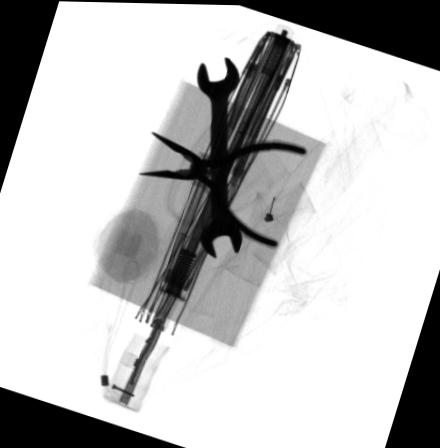Pliers: (135, 129, 309, 247)
Wrench: (195, 56, 241, 260)
